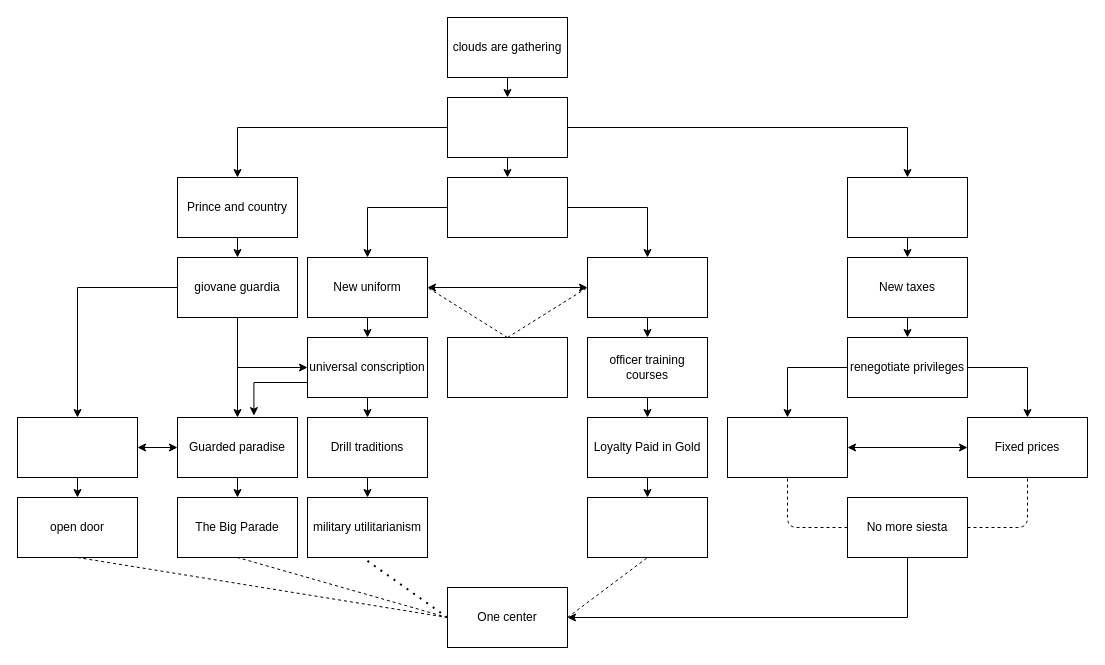
Some shapes in this 1105 by 665 pixel diagram are drawn without their labels. Here are the shapes that lost their labels. From the top down, the centre of each, then its label:
point (507, 127): gran сonsiglio
point (507, 207): Army Inspection
point (907, 207): Militarization of the economy
point (647, 287): Dogs of war
point (507, 367): A new type of war
point (77, 447): cheap labor
point (787, 447): the power of greed
point (647, 527): Learning from professionals
